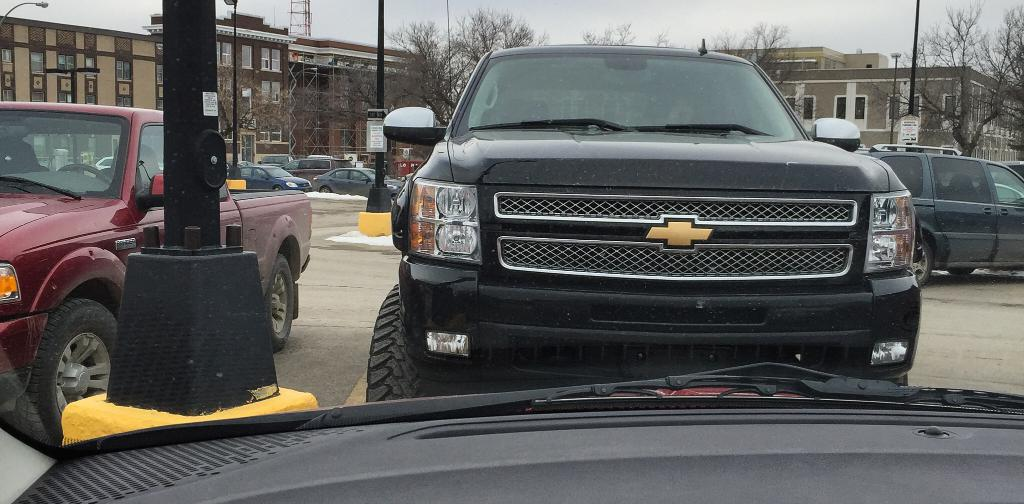Tree: (135, 0, 1024, 171)
